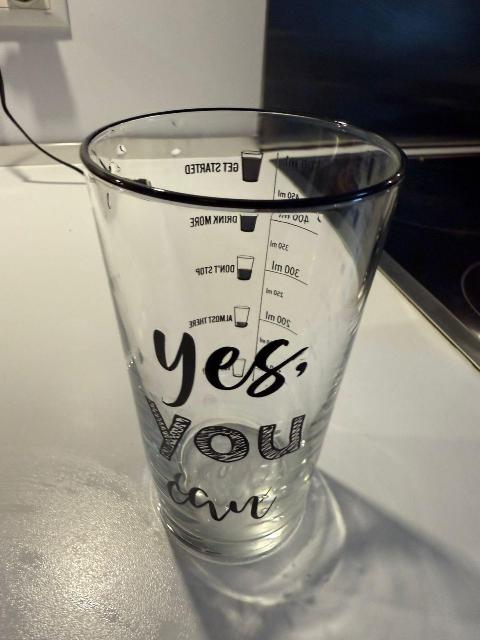Cam: (78, 106, 408, 567)
